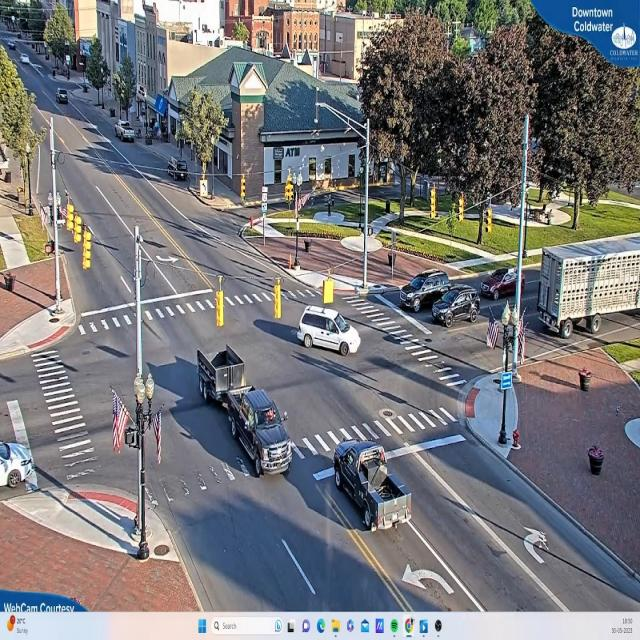car: (332, 440, 413, 532), (220, 387, 295, 479), (300, 307, 362, 359), (400, 272, 455, 313), (432, 289, 481, 327), (482, 270, 538, 302), (0, 443, 38, 490), (117, 121, 137, 145)
